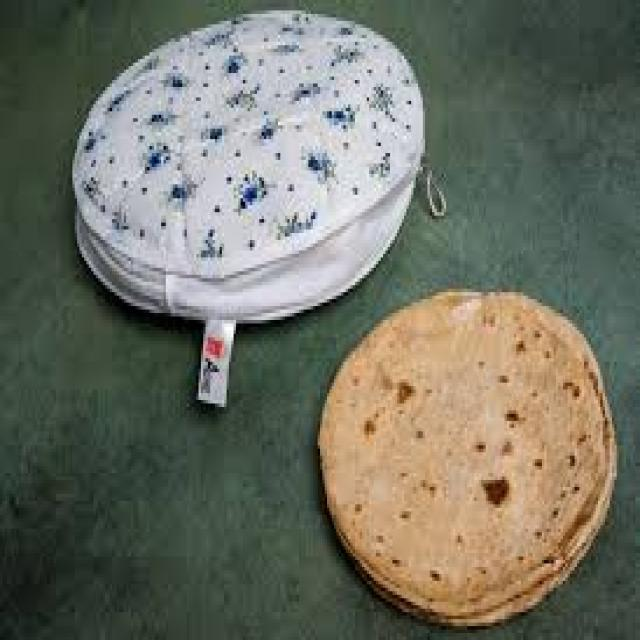ROTI: (315, 289, 605, 616), (70, 7, 420, 275)
